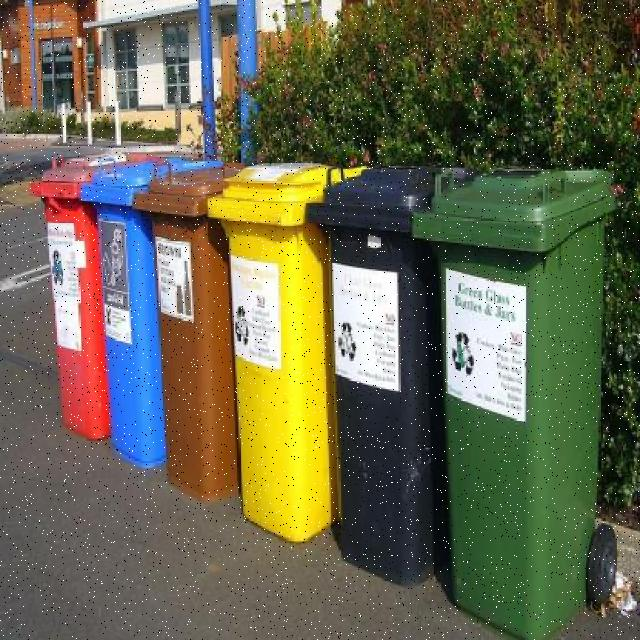garbage container: (428, 153, 630, 639), (327, 156, 450, 604), (227, 147, 336, 564), (151, 154, 238, 512), (26, 143, 114, 460), (97, 156, 158, 467)
